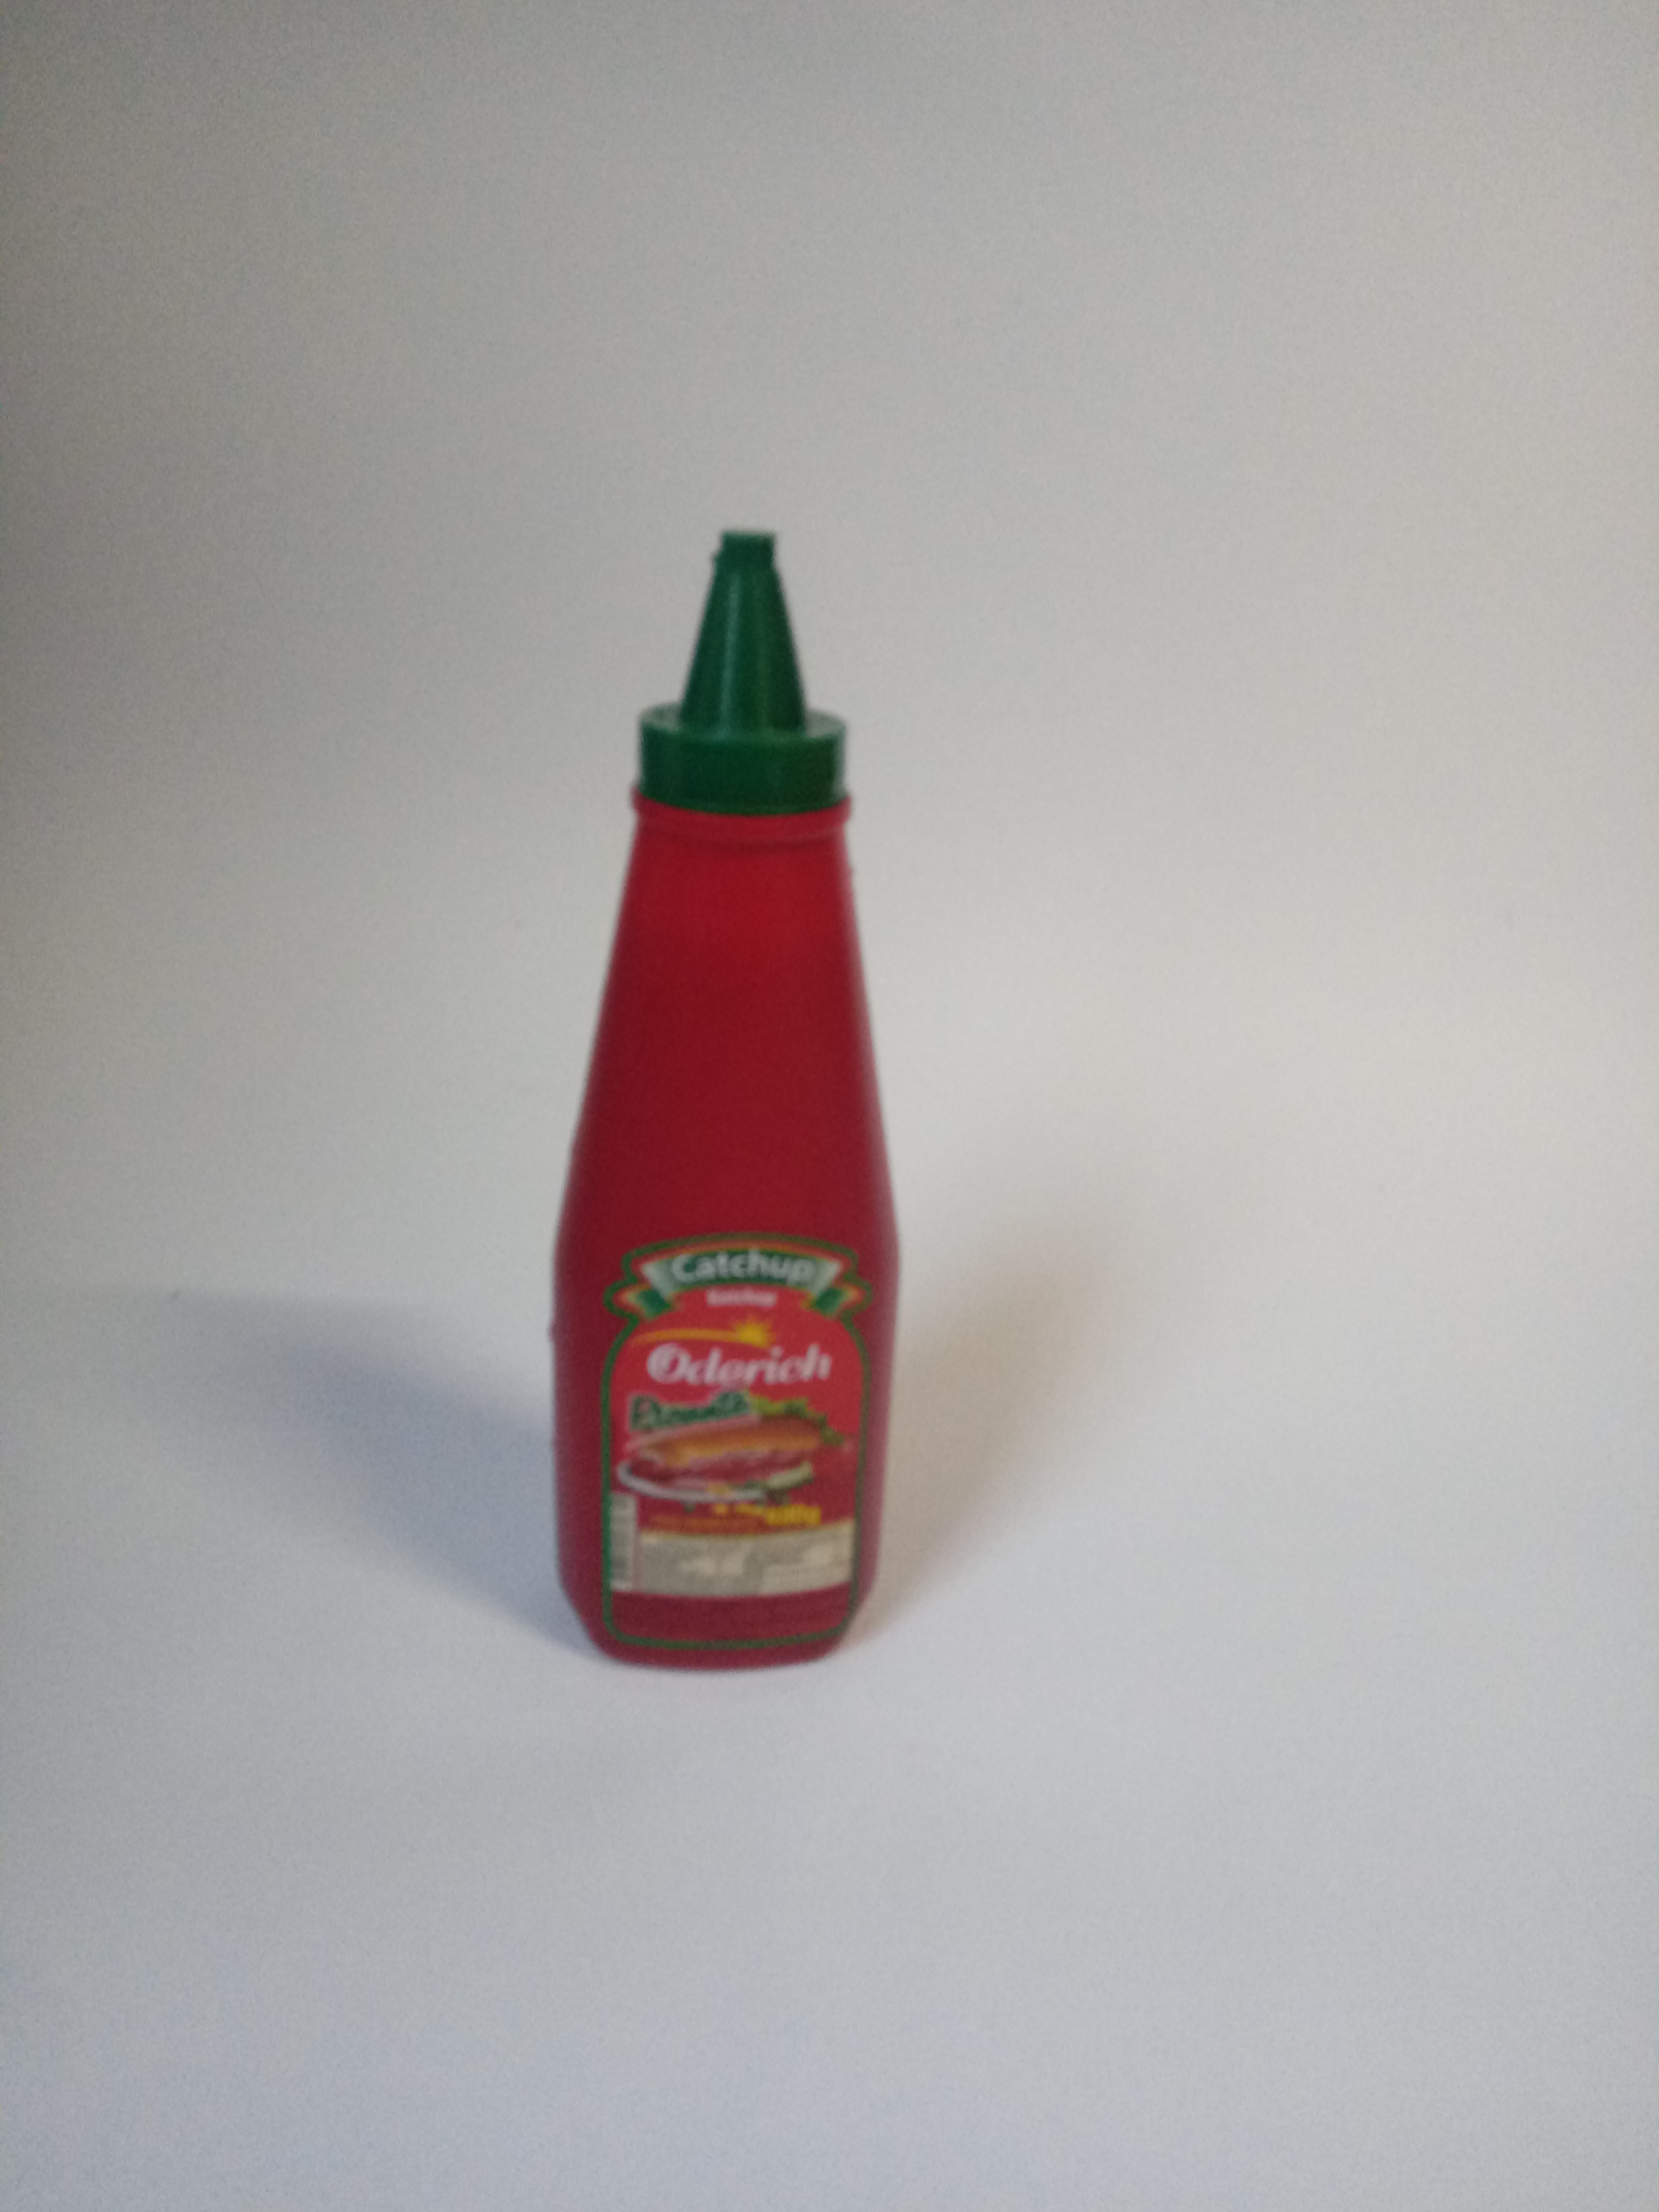catchup-oderich: (495, 465, 927, 1689)
